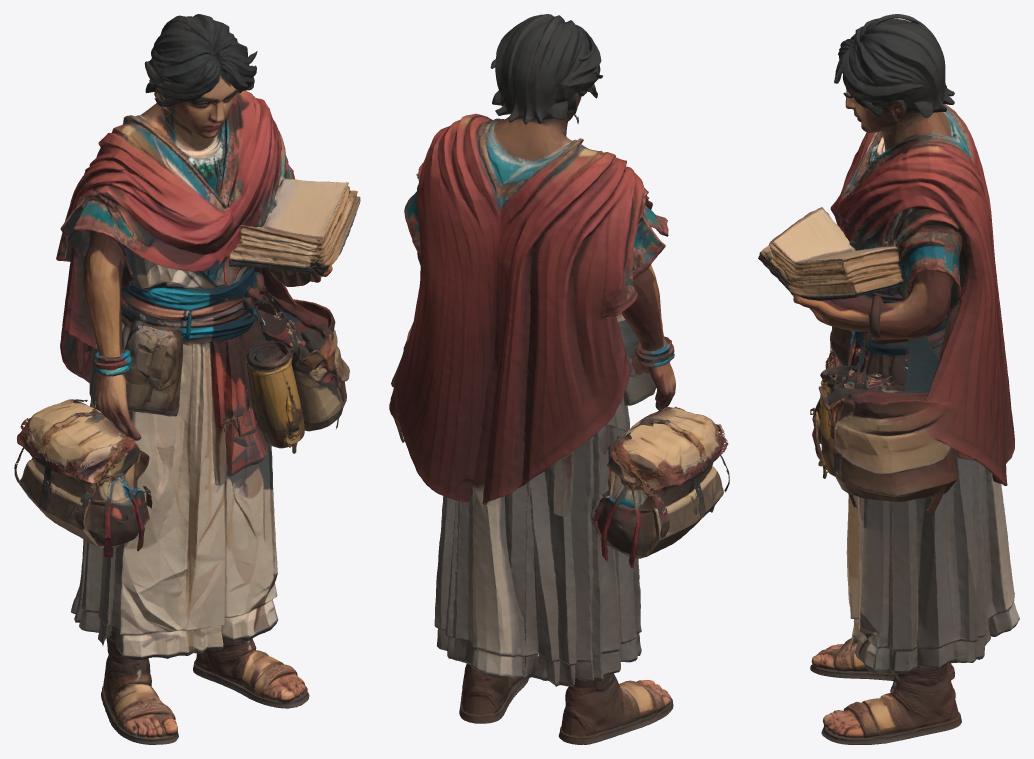
File: missionary.glb
The picture shows the model from 3 angles, left to right: view 1: azimuth 30°, elevation 25°; view 2: azimuth 150°, elevation 25°; view 3: azimuth 270°, elevation 25°; orthographic projection.
Size of the model in its own units: 0.899 by 1.91 by 0.6637.
Materials: 1 (1 with a texture image).
